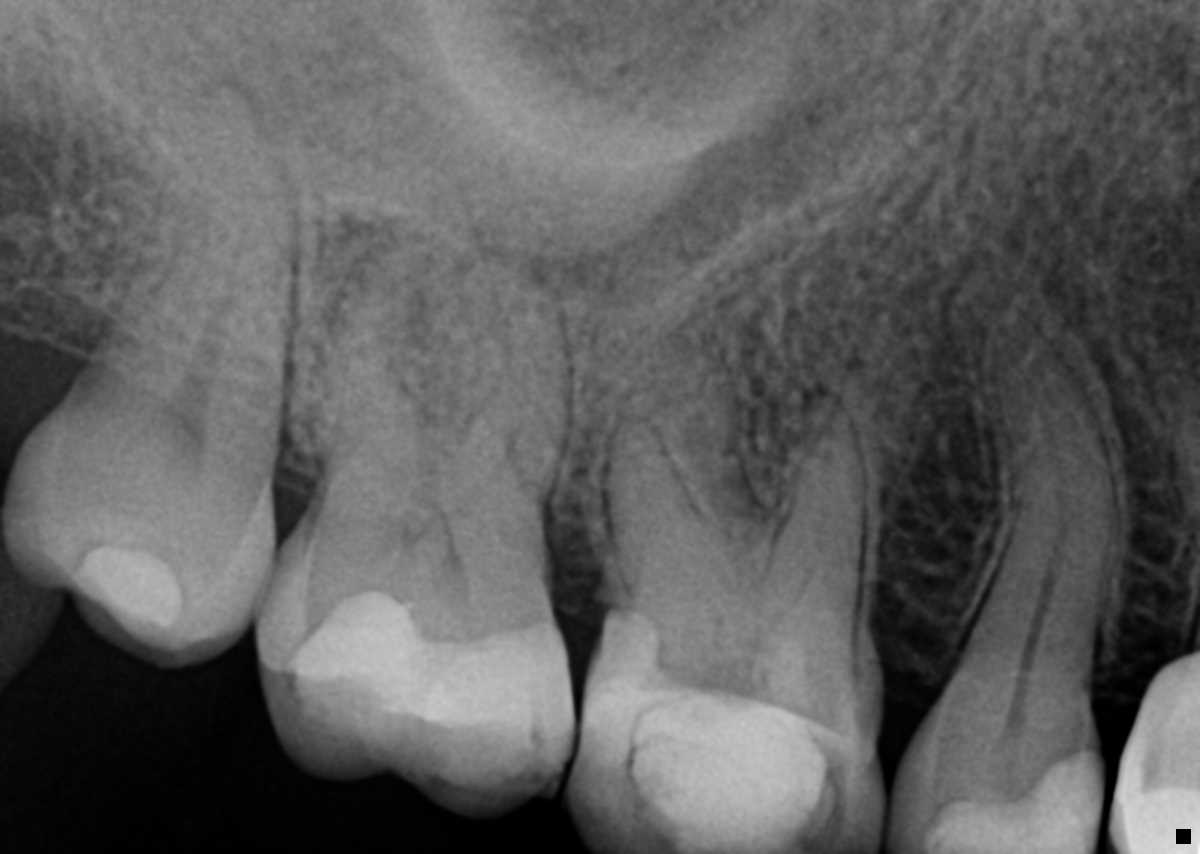Apical Lesion: (316, 212, 446, 302), (461, 236, 565, 290)
Distal Root: (305, 245, 435, 458)
Main Canal: (151, 221, 245, 426), (1021, 409, 1069, 656)
Main Root: (95, 82, 297, 443), (961, 310, 1119, 666)
Mesial Root: (437, 253, 569, 500), (602, 412, 740, 612), (758, 387, 864, 610)
Palatal Root: (321, 143, 549, 510), (591, 216, 758, 577)
